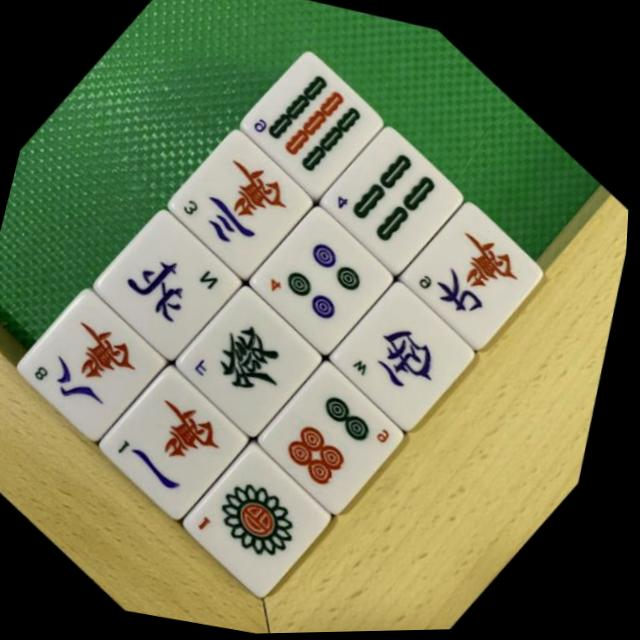hdg: (156, 264, 346, 452)
hwn: (77, 191, 267, 379)
hww: (315, 265, 499, 446)
sb4: (304, 106, 486, 285)
sb9: (225, 34, 407, 213)
sc1: (78, 345, 272, 536)
sc3: (150, 114, 337, 298)
sc8: (0, 275, 189, 464)
sc9: (390, 185, 573, 364)
sd1: (172, 424, 364, 614)
sd4: (227, 183, 414, 367)
sd6: (243, 343, 430, 527)
